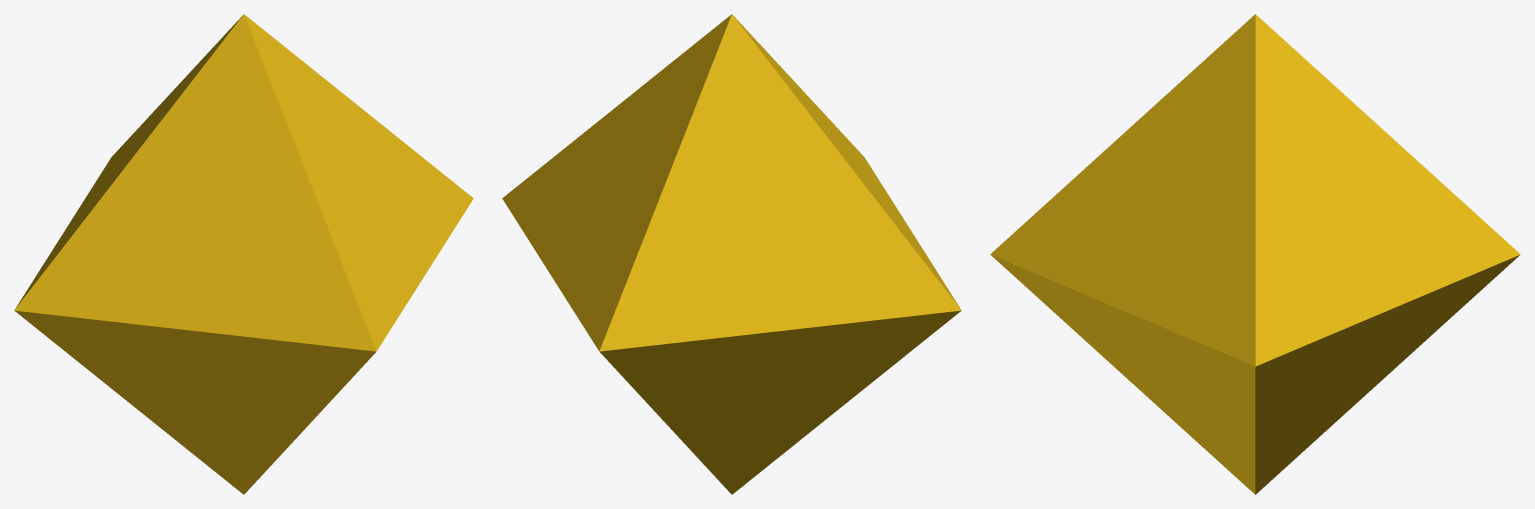
Rendered from Collectible2.fbx.
3 renders of one model, left to right at view 1: azimuth 30°, elevation 25°; view 2: azimuth 150°, elevation 25°; view 3: azimuth 270°, elevation 25°, orthographic.
Parts seen in each view (by area): view 1: Cube; view 2: Cube; view 3: Cube.
Boxes of the visible parts, box(x1,y1,x2,y2) form: Cube: box(14, 14, 473, 494); Cube: box(502, 14, 961, 494); Cube: box(990, 14, 1520, 494).
Size of the model in its own units: 400 by 400 by 400.
